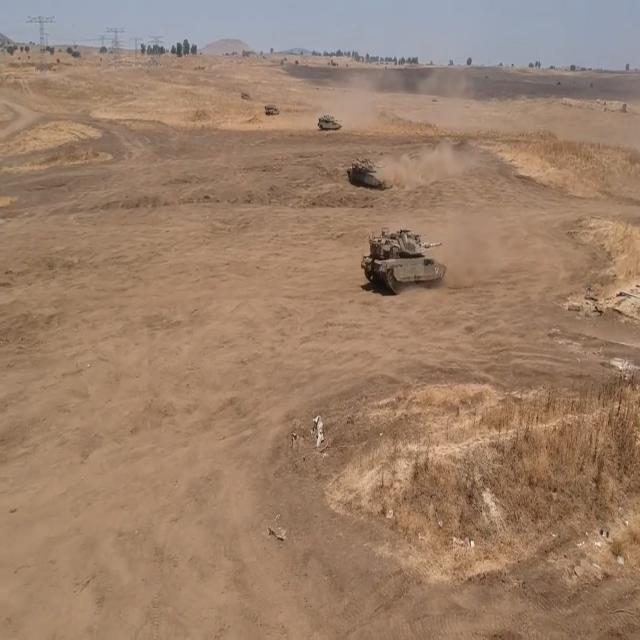tank: (364, 222, 448, 286), (345, 154, 390, 187), (317, 104, 346, 133), (264, 98, 282, 116)
